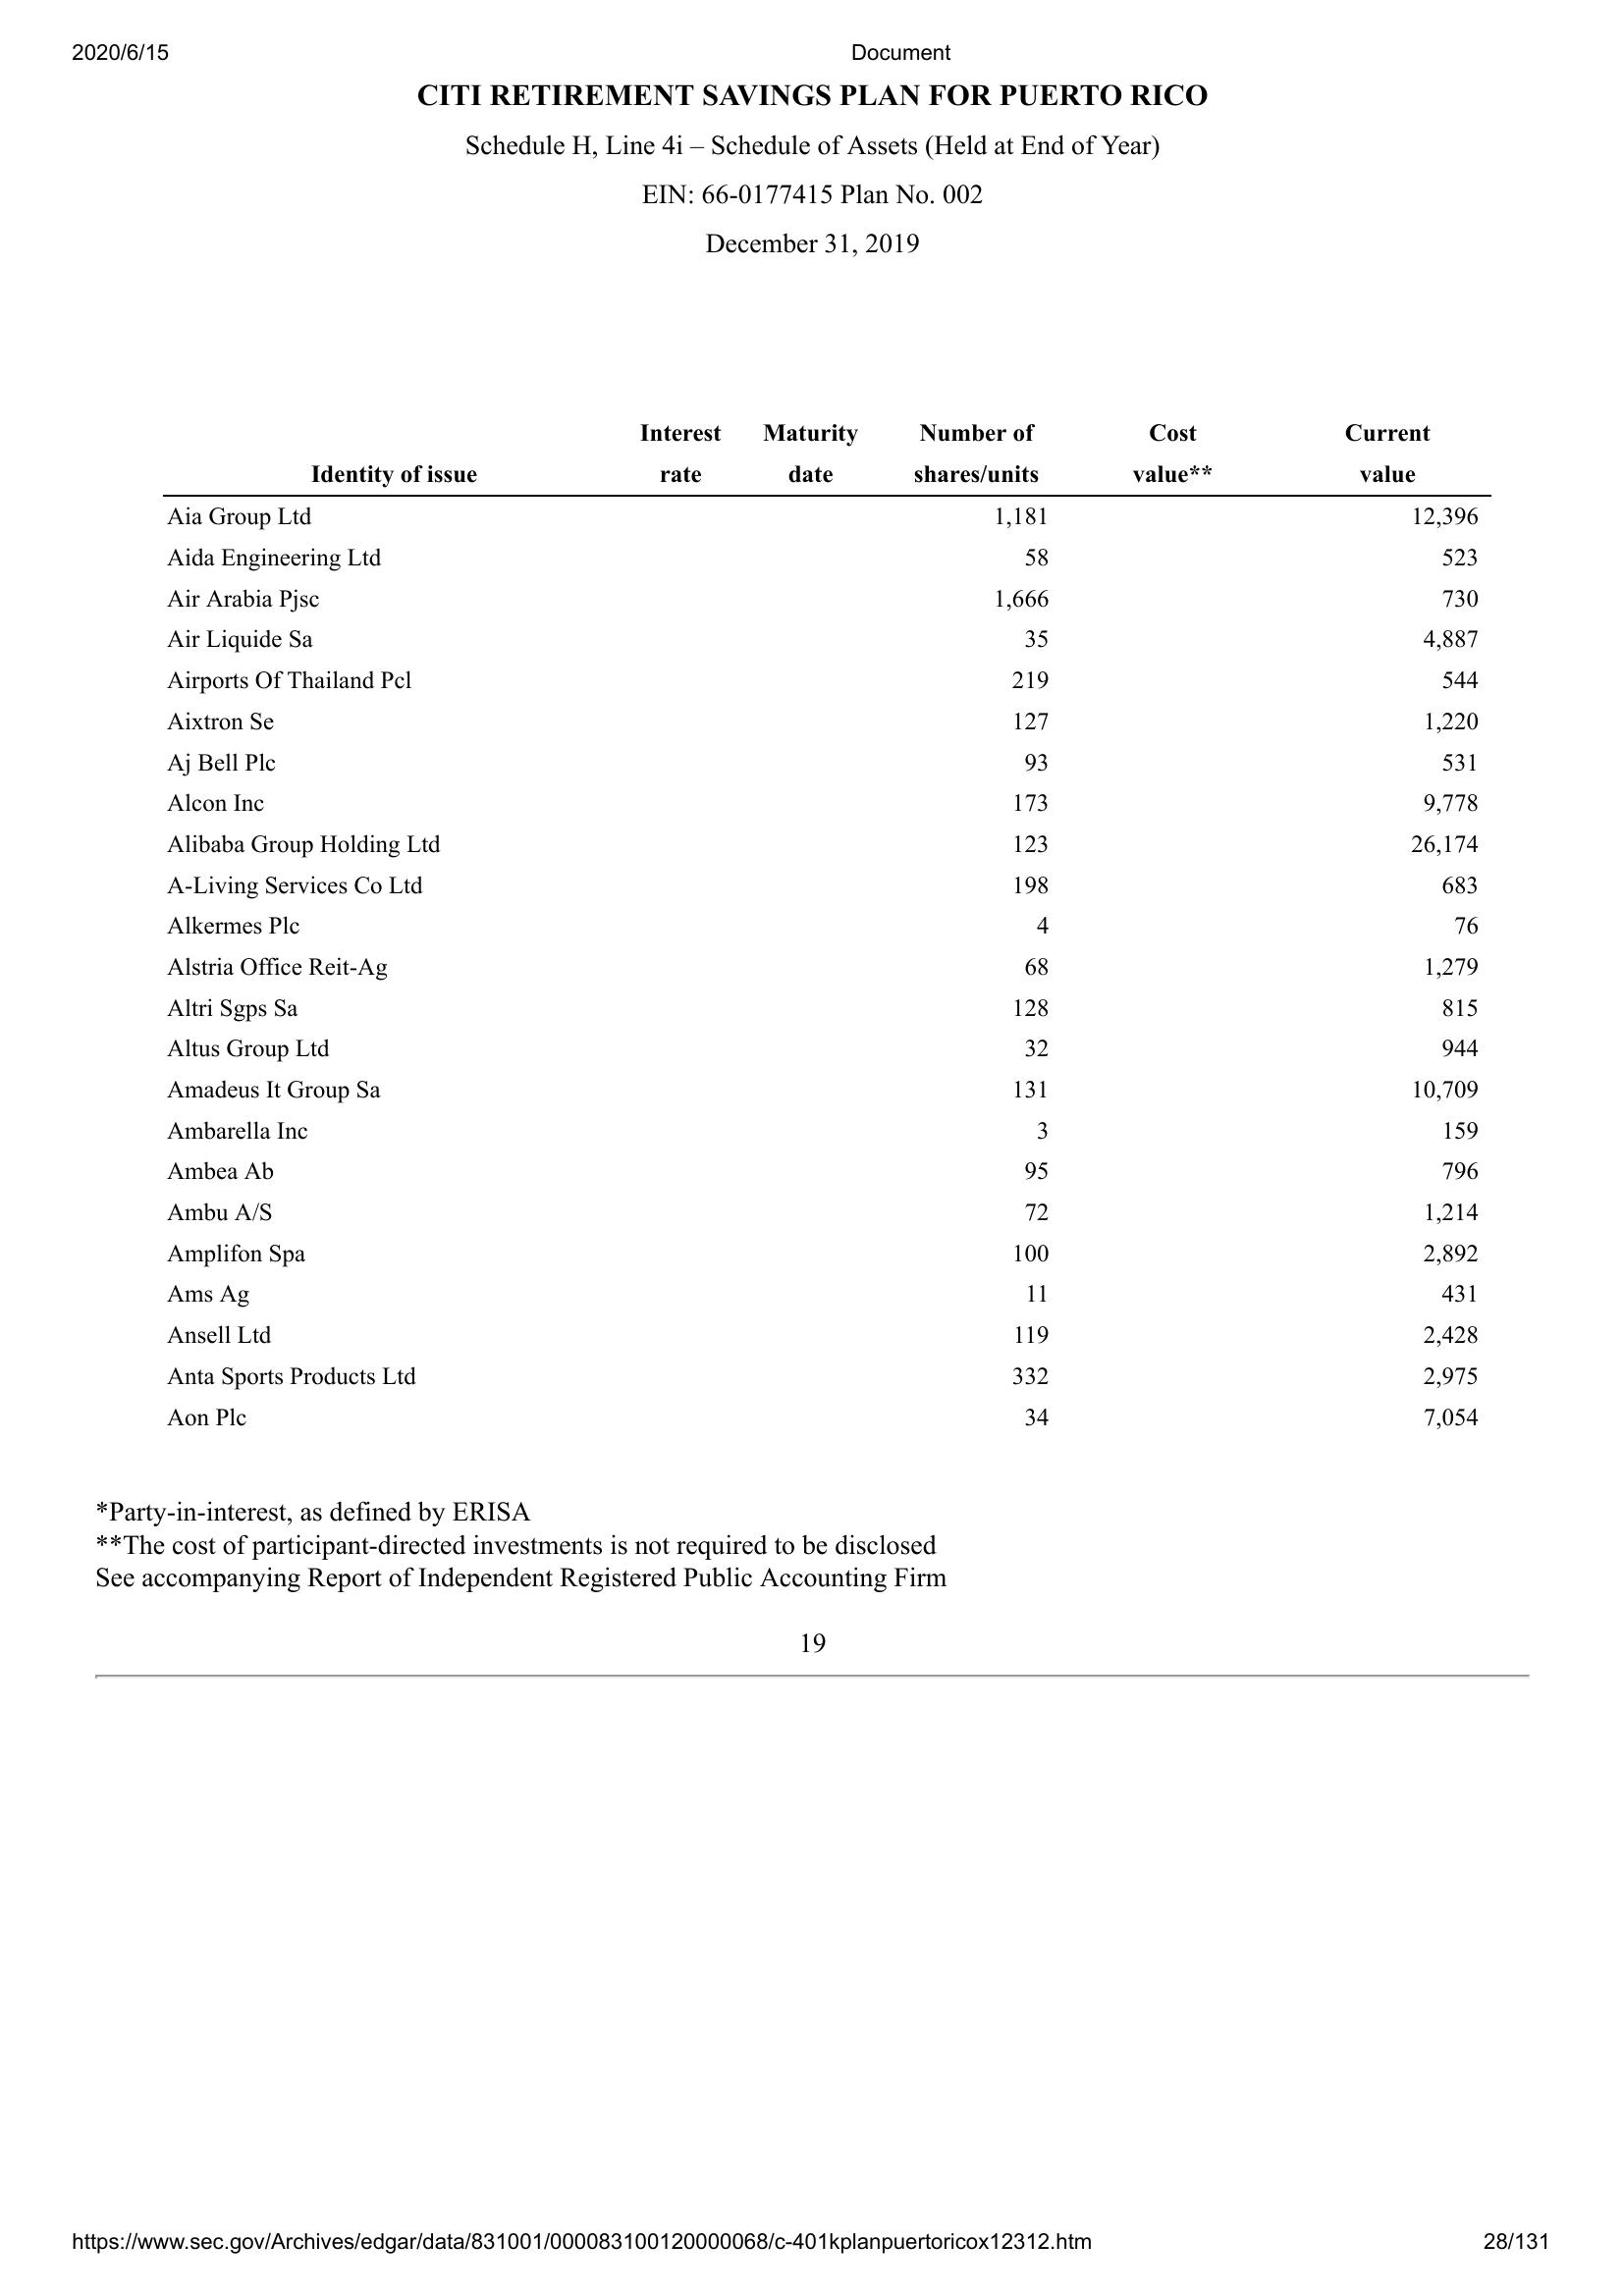table: (148, 421, 1493, 1445)
